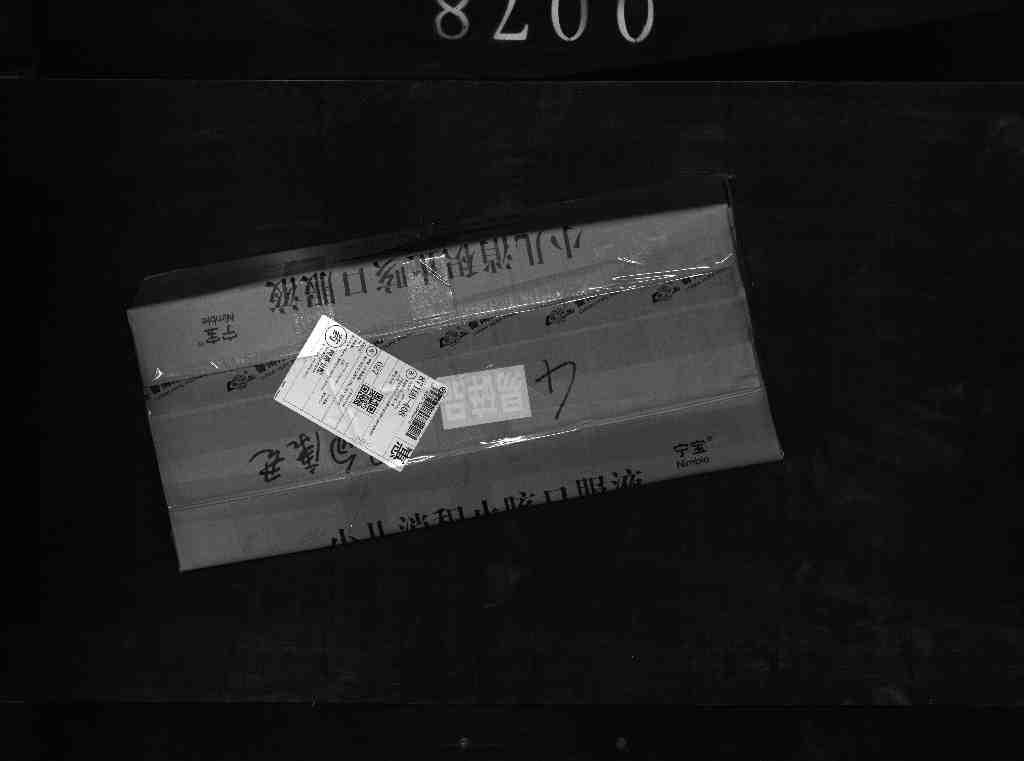box: (115, 192, 789, 572)
